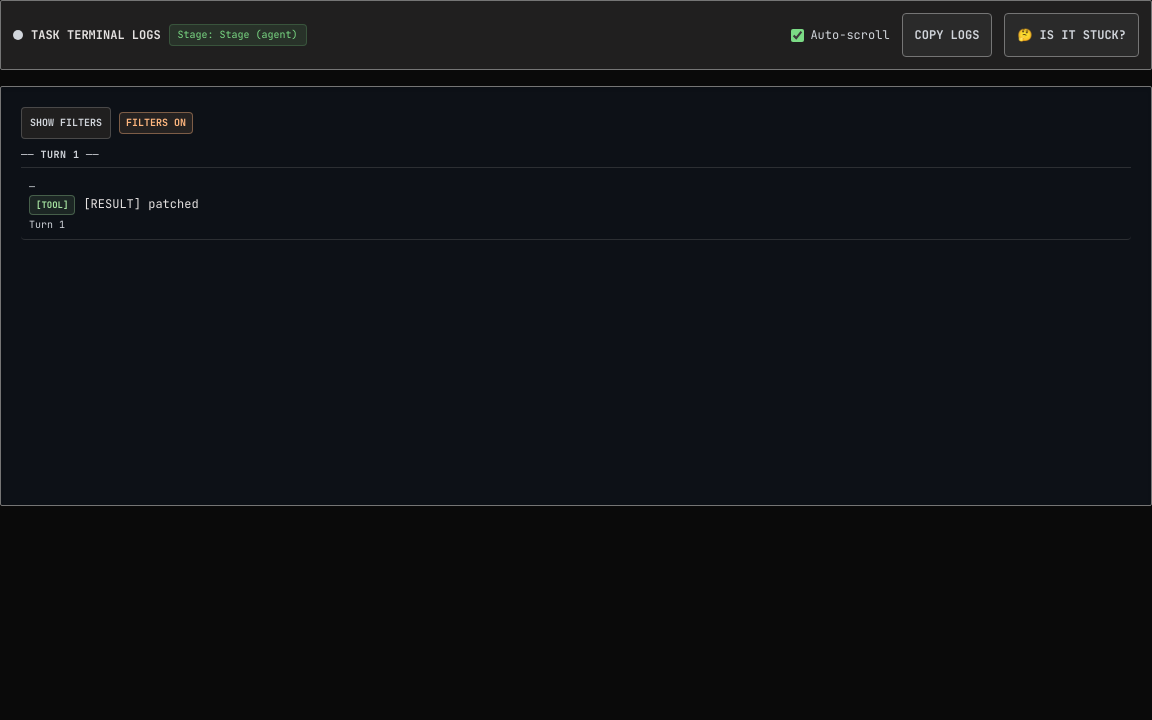
Scenario: task log categories and search restore from per-task localStorage after refresh
Click the button with test id "log-filter-toggle".
click(66, 123)  # box x1=21 y1=107 x2=111 y2=139
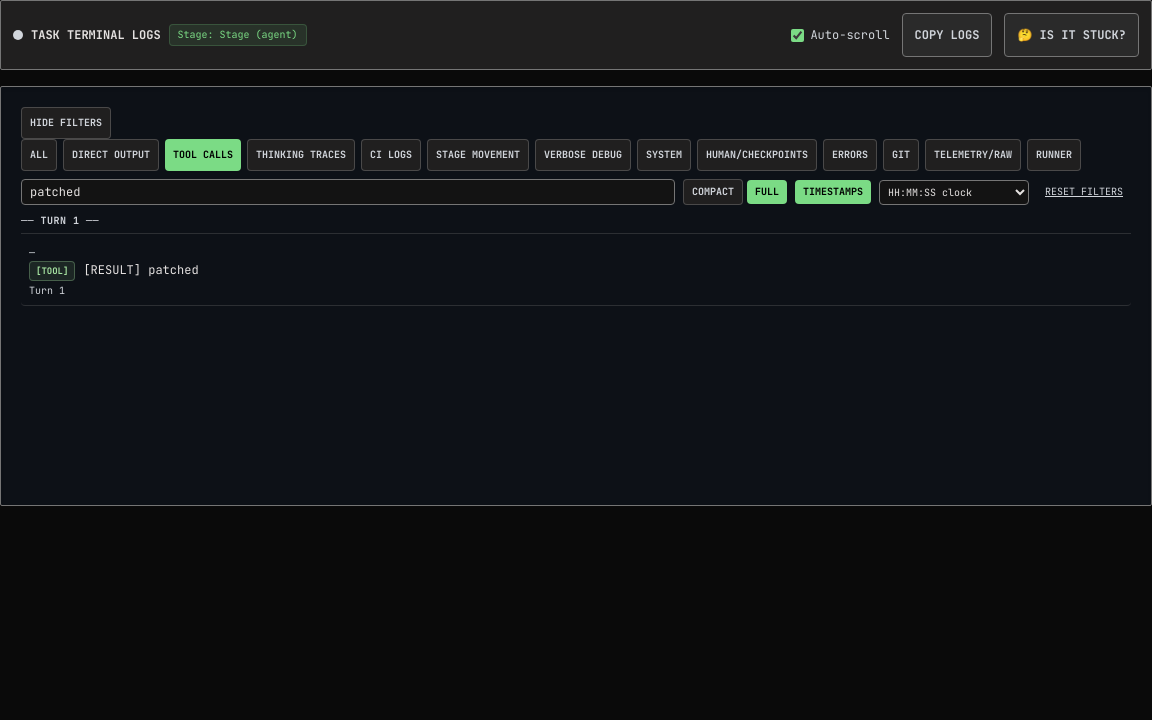
Check: the search field named "Search logs" holds "patched", box x1=21 y1=179 x2=675 y2=205
